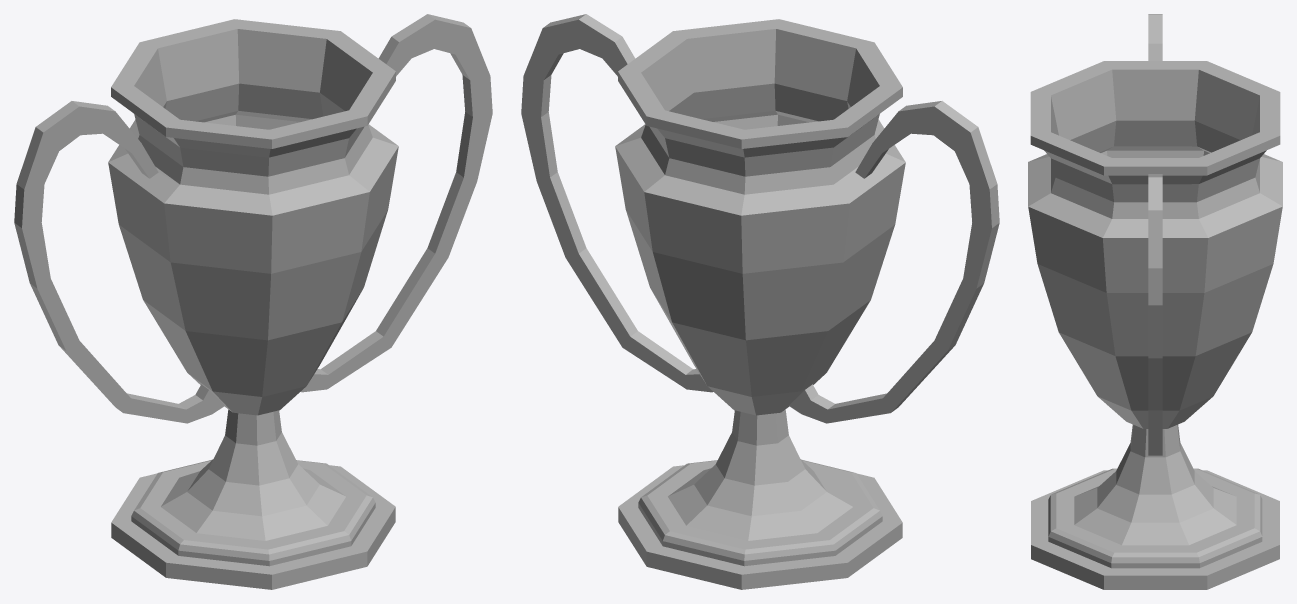
File: Int_Trophy02_2.fbx
3 views of the same model, side by side, from view 1: azimuth 30°, elevation 25°; view 2: azimuth 150°, elevation 25°; view 3: azimuth 270°, elevation 25° (orthographic). The views are drawn at different scales.
Parts seen in each view (by area): view 1: Int_Trophy02_2; view 2: Int_Trophy02_2; view 3: Int_Trophy02_2.
Part boxes in pixels (x1,y1,x2,y2): Int_Trophy02_2: (14, 14, 492, 589); Int_Trophy02_2: (521, 14, 999, 589); Int_Trophy02_2: (1028, 14, 1282, 589).
Size of what is drawn, in the model's own units: 52.5 by 26.17 by 50.04.
